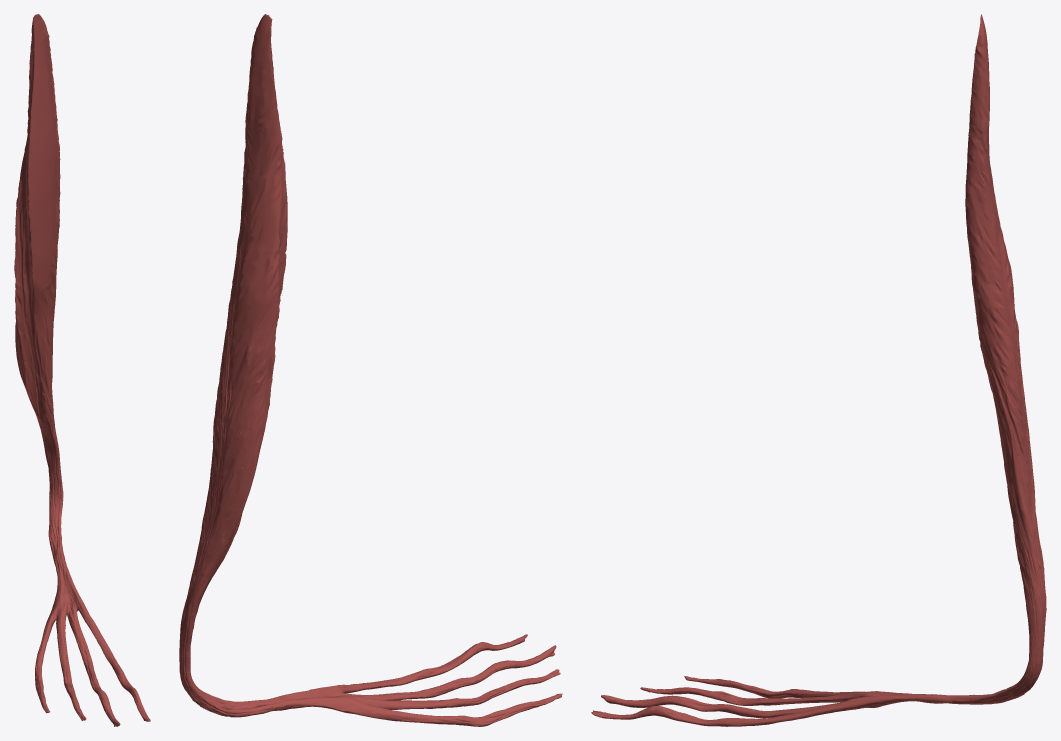
The model's file is FMA65016.glb.
3 views of the same model, side by side, from view 1: azimuth 30°, elevation 25°; view 2: azimuth 150°, elevation 25°; view 3: azimuth 270°, elevation 25° (orthographic). The views are drawn at different scales.
Visible parts, largest first — view 1: FMA65016; view 2: FMA65016; view 3: FMA65016.
Boxes of the visible parts, bbox=[...] form: FMA65016: bbox=[14, 14, 150, 726]; FMA65016: bbox=[179, 14, 562, 726]; FMA65016: bbox=[591, 14, 1046, 726].
Size of the model in its own units: 0.0915 by 0.3328 by 0.187.
